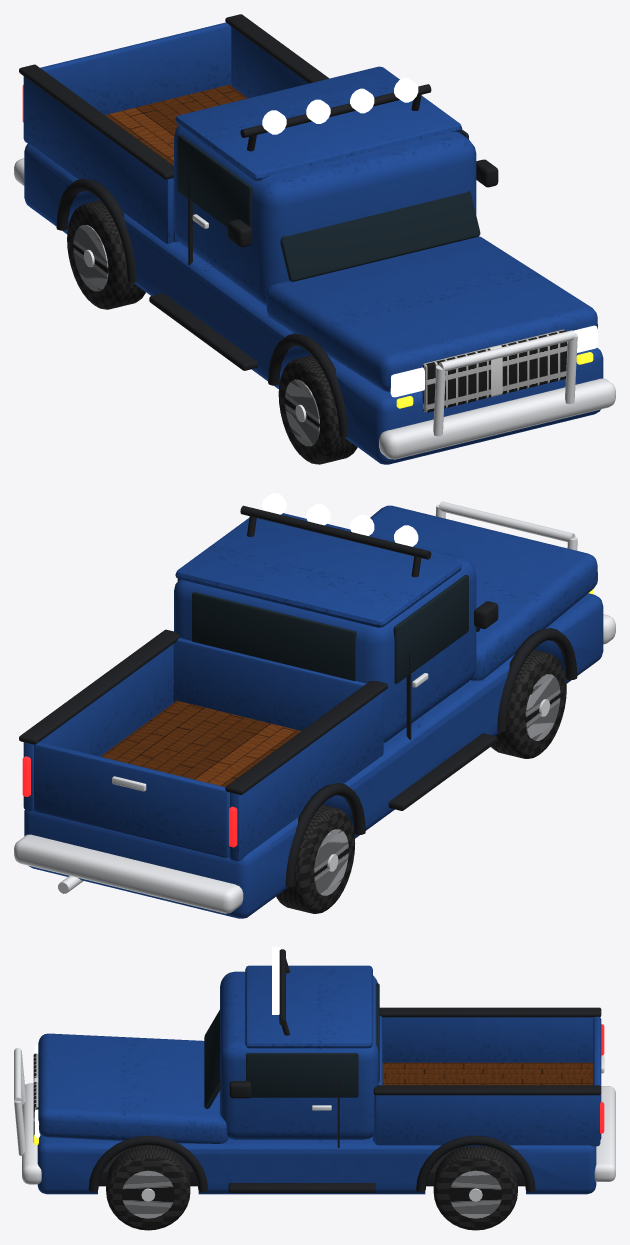
Rendered from pickup-blue.glb.
The picture shows the model from 3 angles, top to bottom: view 1: azimuth 30°, elevation 25°; view 2: azimuth 150°, elevation 25°; view 3: azimuth 270°, elevation 25°; orthographic projection. The views are drawn at different scales.
Visible parts, largest first — view 1: pickup-blue; view 2: pickup-blue; view 3: pickup-blue.
Boxes of the visible parts, <box> form: pickup-blue: <box>14,14,615,464</box>; pickup-blue: <box>14,493,615,918</box>; pickup-blue: <box>14,947,615,1230</box>.
Bounding box in the file's own units: 2.36 × 2.41 × 6.14.
Materials: 11 (5 with a texture image).
